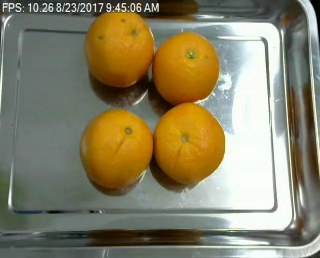Orange: (80, 107, 153, 189), (153, 103, 225, 186), (83, 12, 154, 87), (152, 31, 219, 105)
